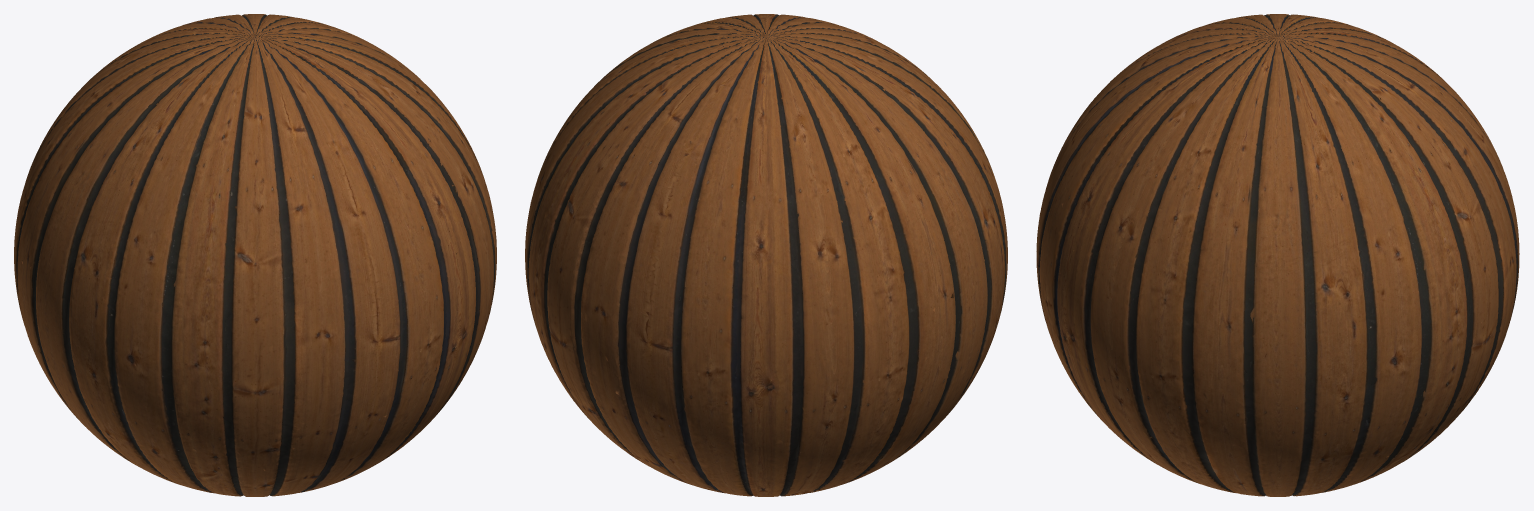
File: roof_planks_1k.gltf
3 renders of one model, left to right at view 1: azimuth 30°, elevation 25°; view 2: azimuth 150°, elevation 25°; view 3: azimuth 270°, elevation 25°, orthographic.
Visible parts, largest first — view 1: sphere_gltf; view 2: sphere_gltf; view 3: sphere_gltf.
Boxes of the visible parts, x1,y1,x2,y2 form: sphere_gltf: (14, 14, 496, 496); sphere_gltf: (525, 14, 1007, 496); sphere_gltf: (1036, 14, 1519, 496).
Size of the model in its own units: 1.51 by 1.51 by 1.51.
1 material, 1 textured.
